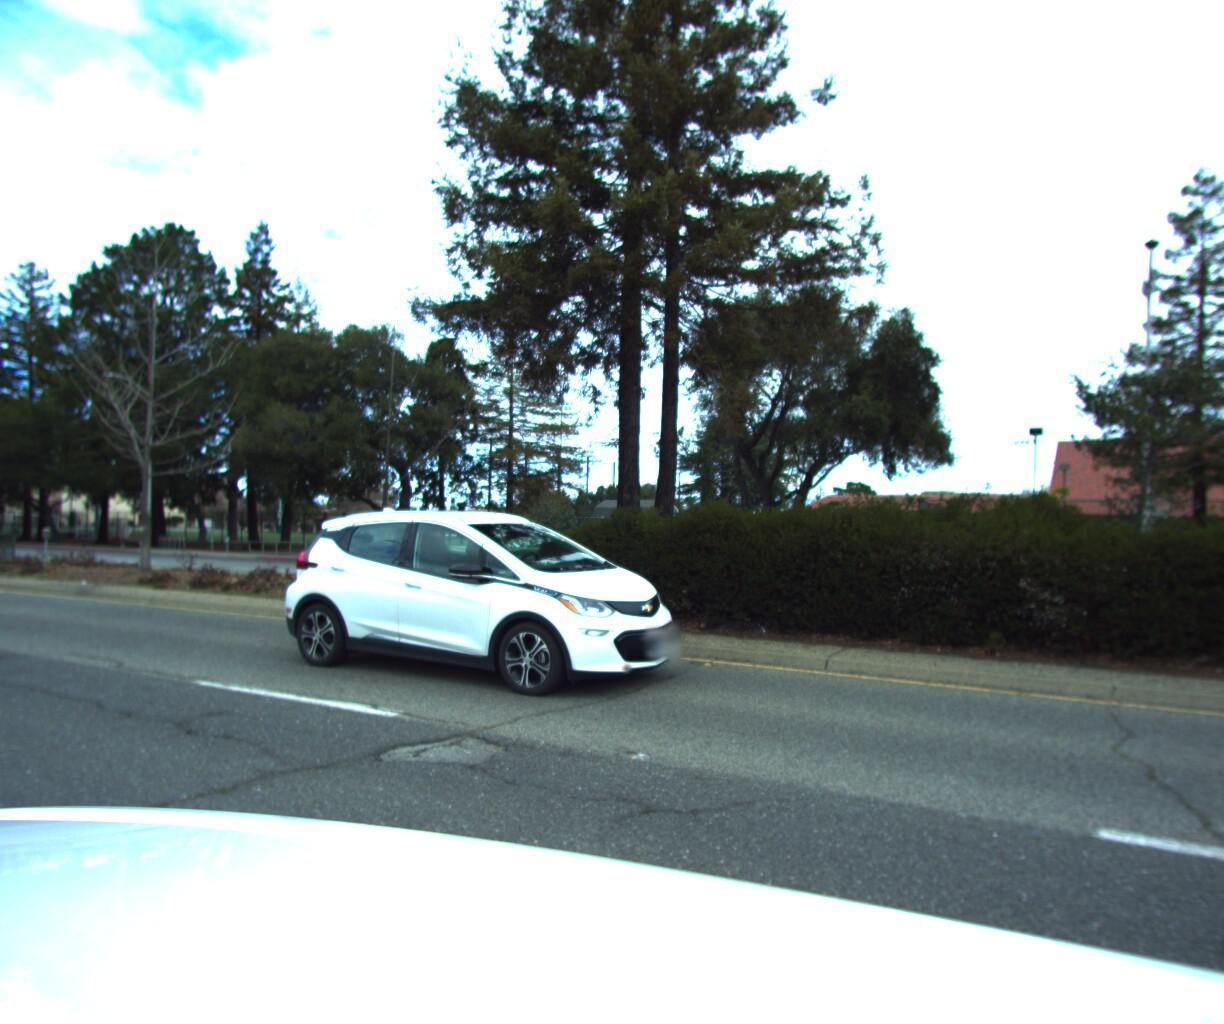car: (251, 499, 703, 705)
